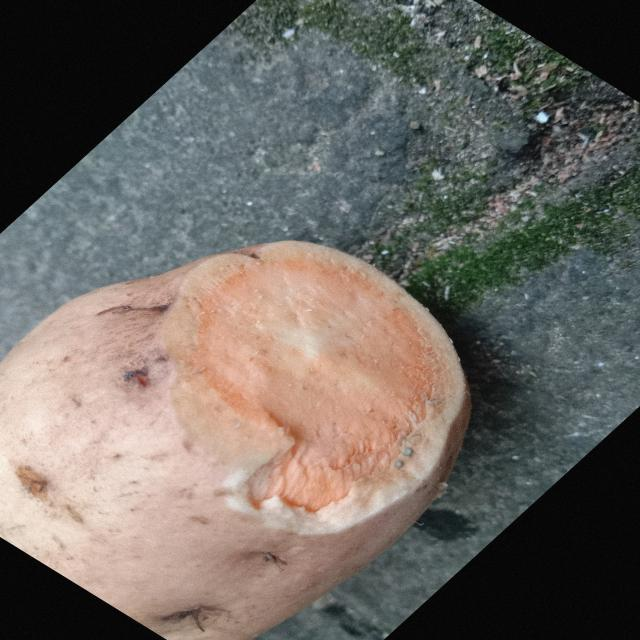Healthy Sweet Potato: (165, 241, 470, 535)
